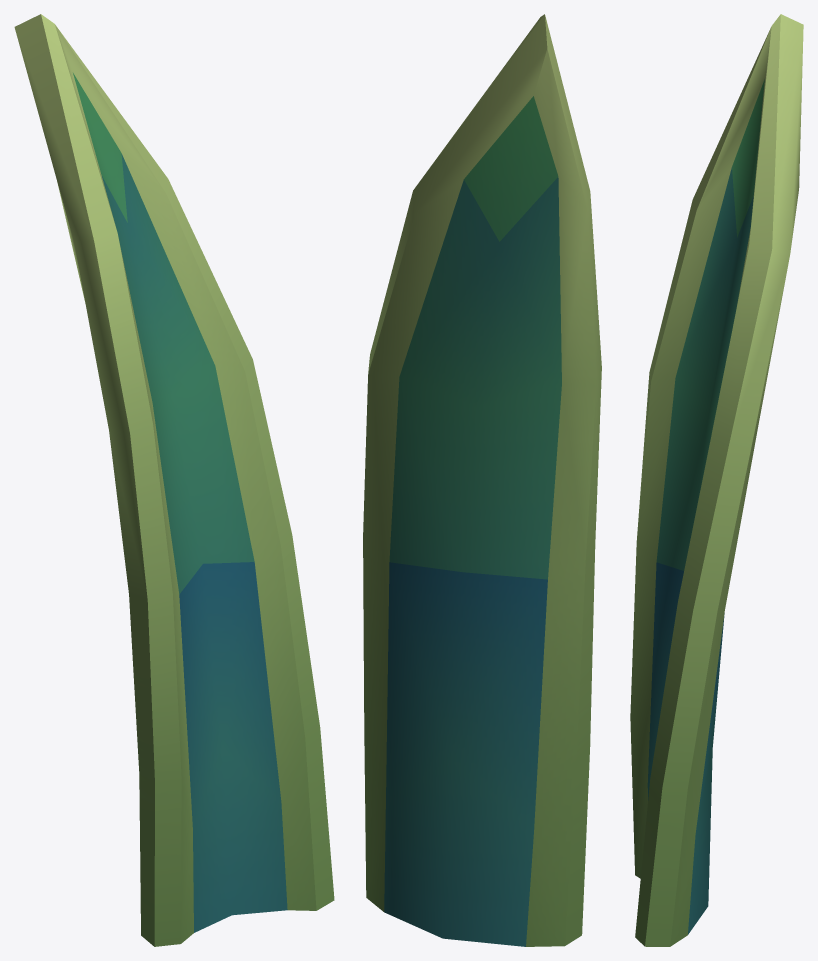
Rendered from Sansevieria Leaf Medium.glb.
3 renders of one model, left to right at view 1: azimuth 30°, elevation 25°; view 2: azimuth 150°, elevation 25°; view 3: azimuth 270°, elevation 25°, orthographic. The views are drawn at different scales.
Parts seen in each view (by area): view 1: sansevieria_leaf_medium_B; view 2: sansevieria_leaf_medium_B; view 3: sansevieria_leaf_medium_B.
Part boxes in pixels (x1,y1,x2,y2): sansevieria_leaf_medium_B: [14, 14, 334, 946]; sansevieria_leaf_medium_B: [363, 14, 601, 946]; sansevieria_leaf_medium_B: [630, 14, 803, 946].
Bounding box in the file's own units: 0.3891 × 1.4 × 0.2646.
1 material, 1 textured.
